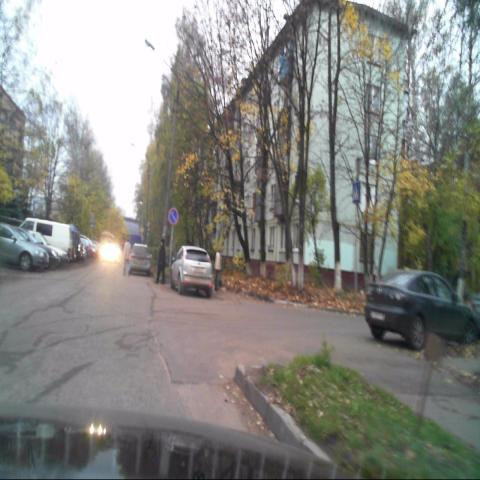3_28: (167, 207, 178, 227)
5_19_1: (352, 182, 359, 203)
